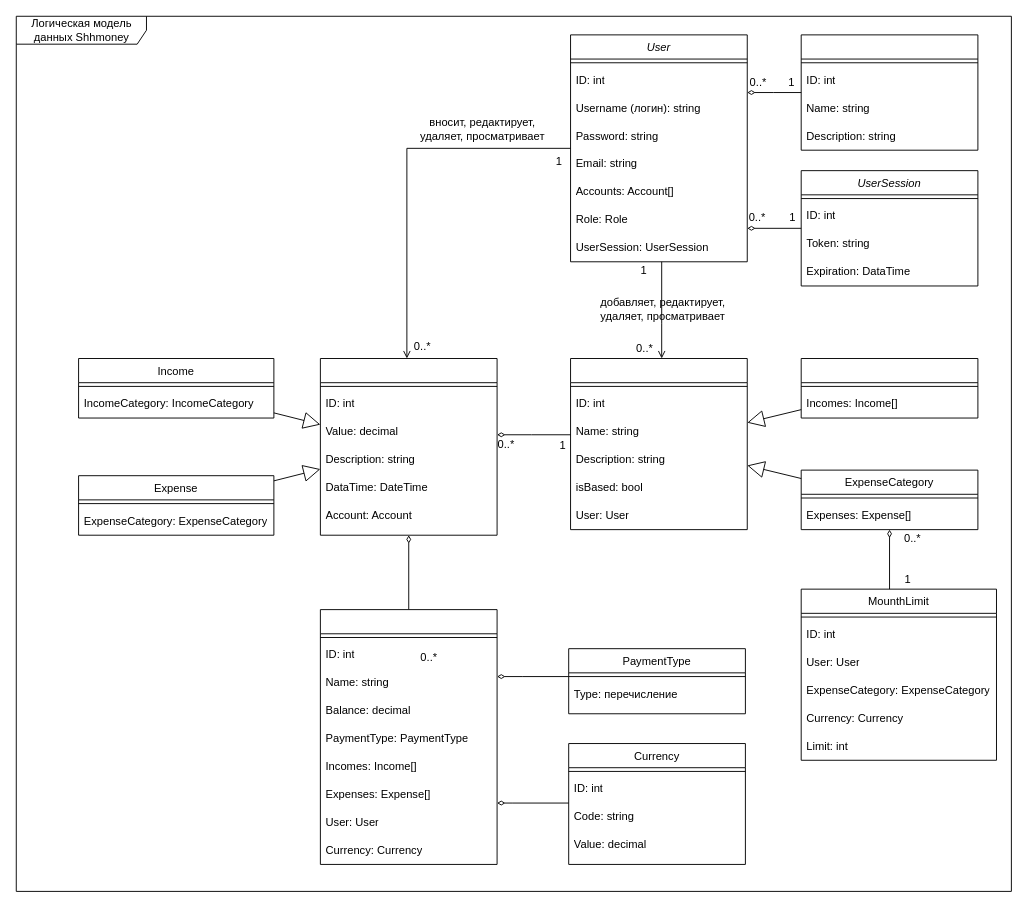
This 1028x908 diagram has some shape labels left out. The box of each missing label's shape, as (x1, y1, x2, y2) in pixels:
Account: (319, 609, 497, 864)
Category: (570, 358, 747, 530)
IncomeCategory: (800, 358, 978, 418)
Role: (800, 34, 978, 150)
Transaction: (319, 358, 497, 535)
